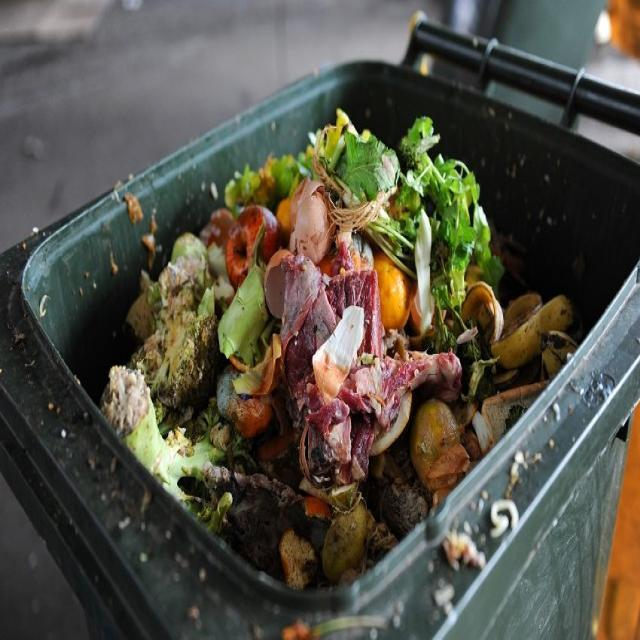Garbage: (101, 110, 580, 588)
